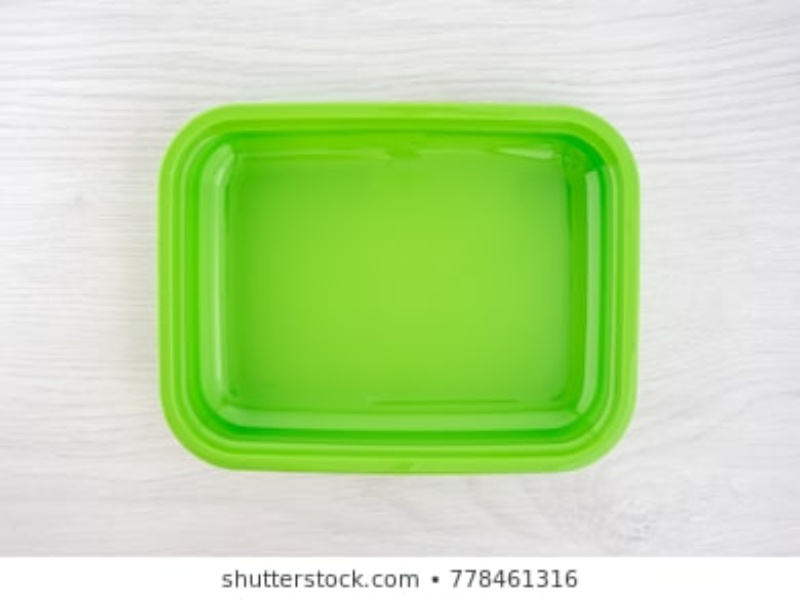plastic-tray: (148, 98, 649, 478)
